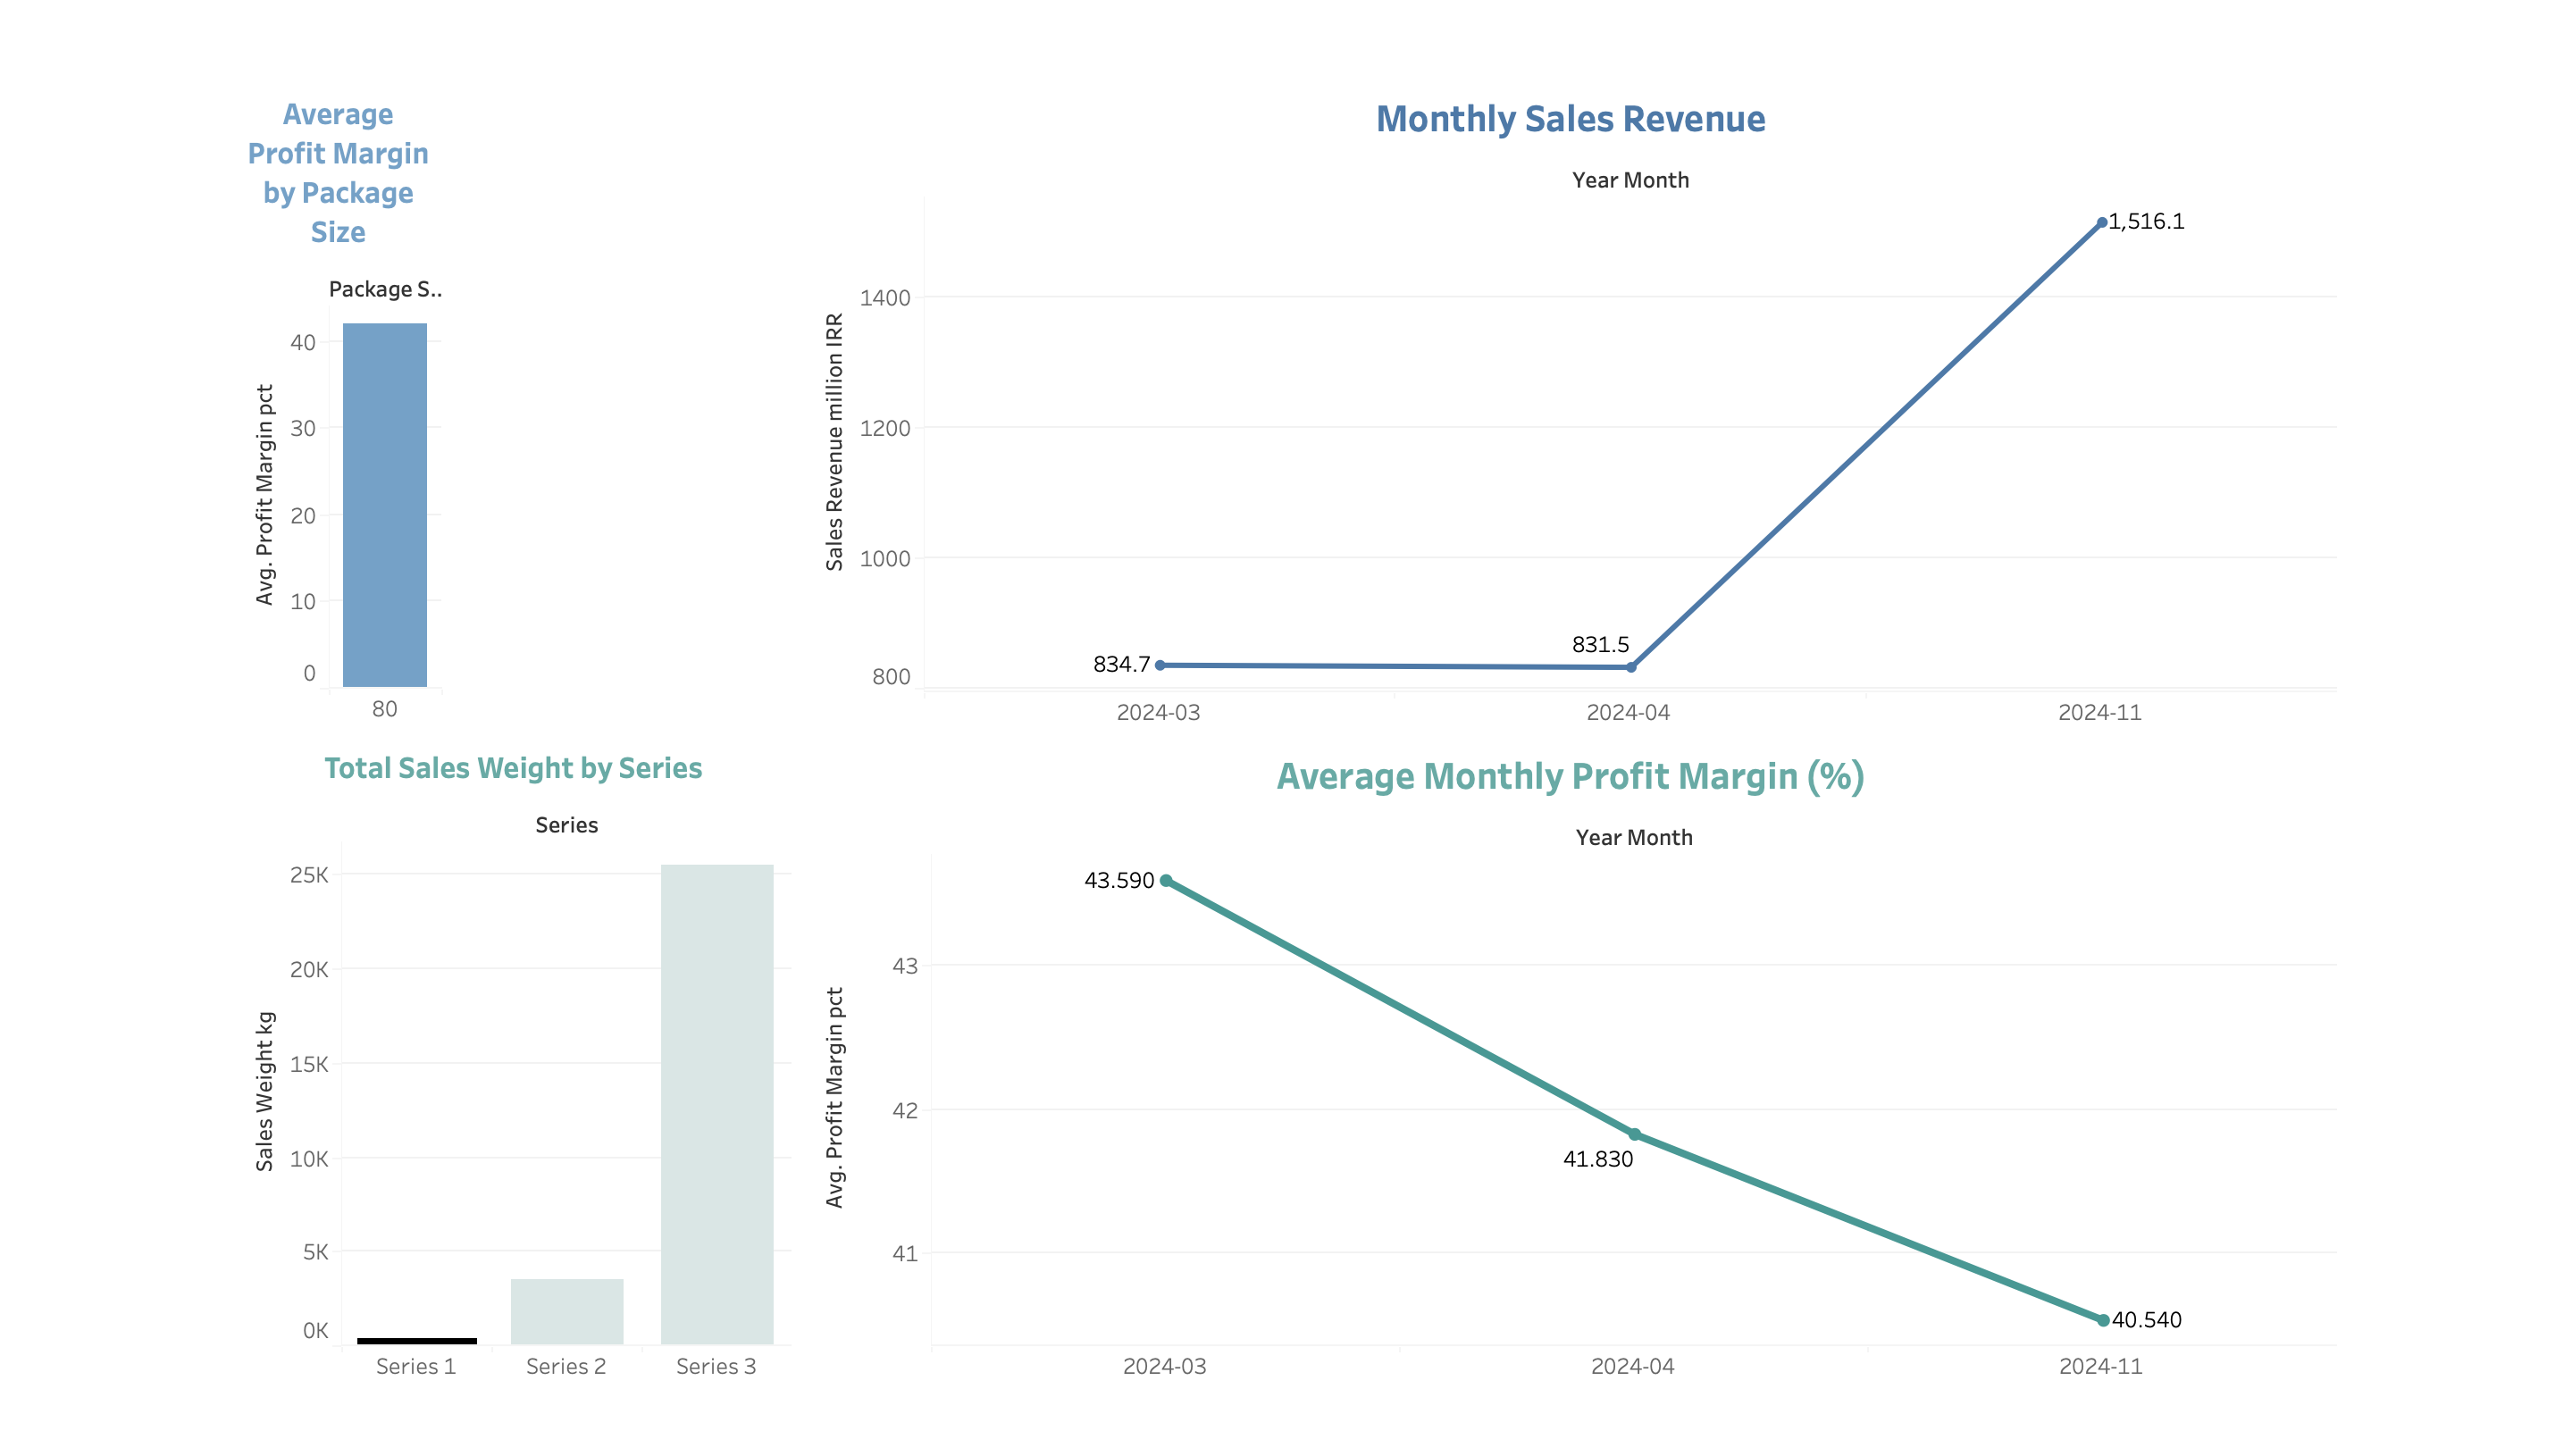

What the dashboard file says about the page in this screenshot:
{"tool":"tableau","page":{"name":"Dashboard 1","canvas":[1000,1000],"units":"permille","ordinal":0},"visuals":[{"type":"worksheet","title":"Sheet 3","mark":"Automatic","rows":["Profit_Margin_pct"],"cols":["Package_Size_g"],"box":[6.7,10.7,265.7,487.9]},{"type":"worksheet","title":"Sheet 1","mark":"Line","rows":["Sales_Revenue_million_IRR"],"cols":["YearMonth"],"box":[272.4,10.7,721,490]},{"type":"worksheet","title":"Sheet 4","mark":"Bar","rows":["Sales_Weight_kg"],"cols":["Series"],"box":[6.7,498.6,265.7,490.8]},{"type":"worksheet","title":"Sheet 2","mark":"Line","rows":["Profit_Margin_pct"],"cols":["YearMonth"],"box":[272.4,500.7,721,488.6]}]}

Visuals, with their boxes on the dashboard's canvas, which has no fixed pixel size, in thousandths of its width and height (x1, y1, x2, y2). These are canvas units, not pixel positions in the 2572x1456 screenshot, which may show the page scaled, cropped or inside an application window:
"Sheet 3" worksheet: locate(7, 11, 272, 499)
"Sheet 1" worksheet (Line marks): locate(272, 11, 993, 501)
"Sheet 4" worksheet (Bar marks): locate(7, 499, 272, 989)
"Sheet 2" worksheet (Line marks): locate(272, 501, 993, 989)
